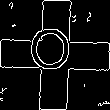O_S: (32, 29, 78, 81)
